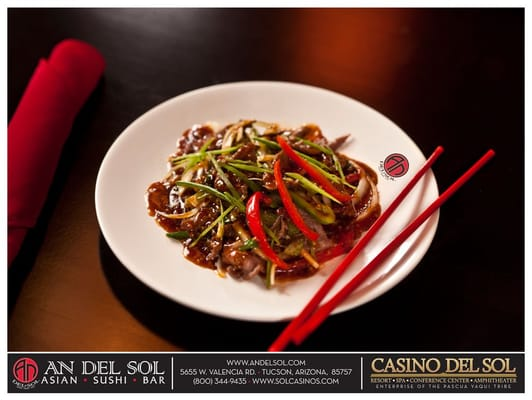sushi: (95, 78, 452, 326)
